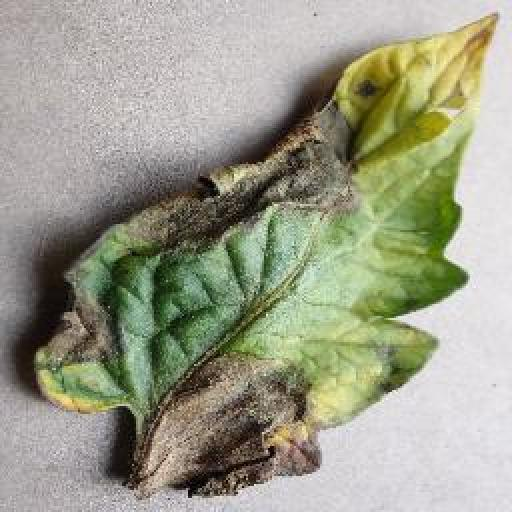Late Blight: (32, 10, 501, 502)
